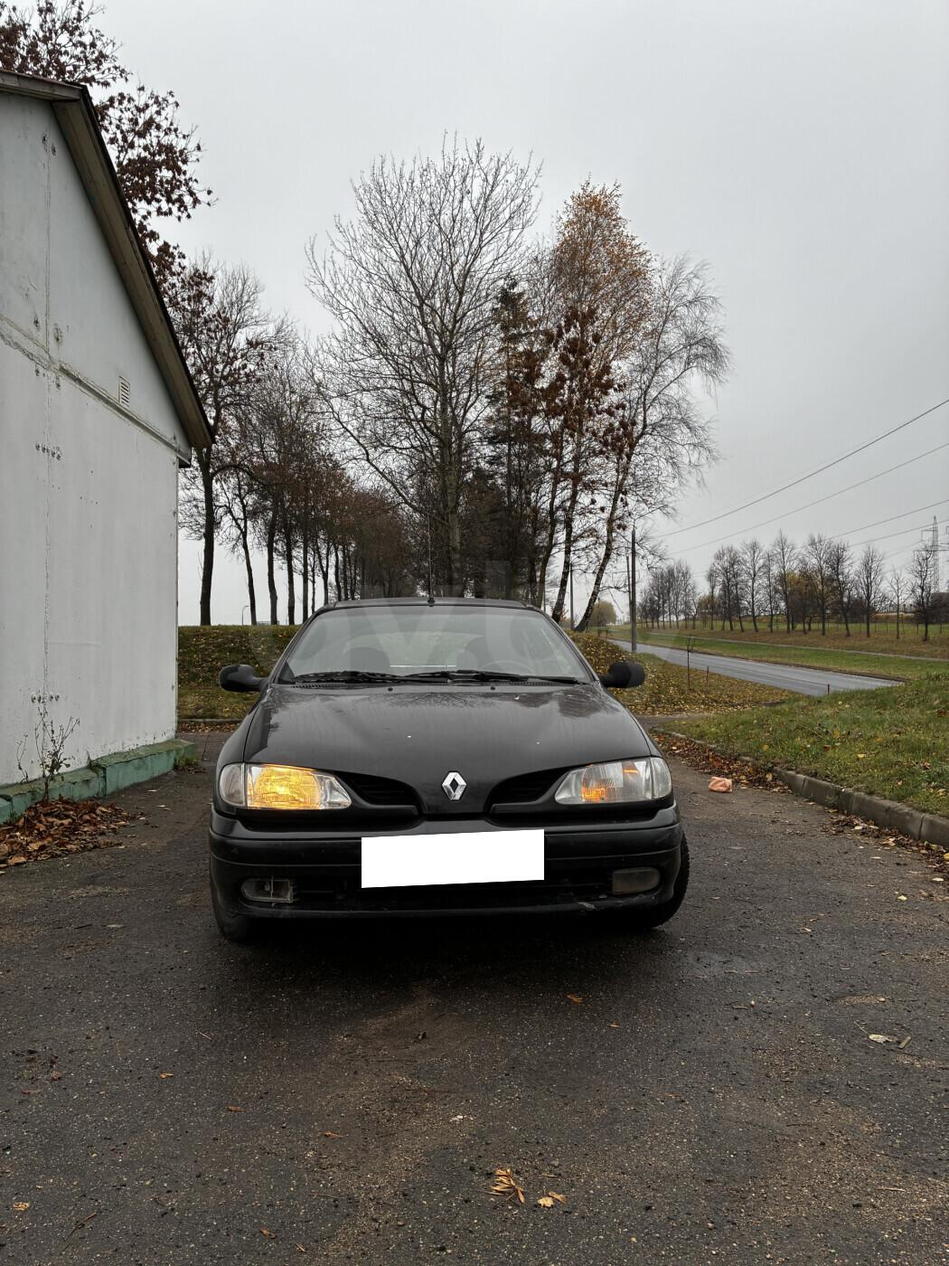Megane_1995-1999: (217, 593, 692, 968)
